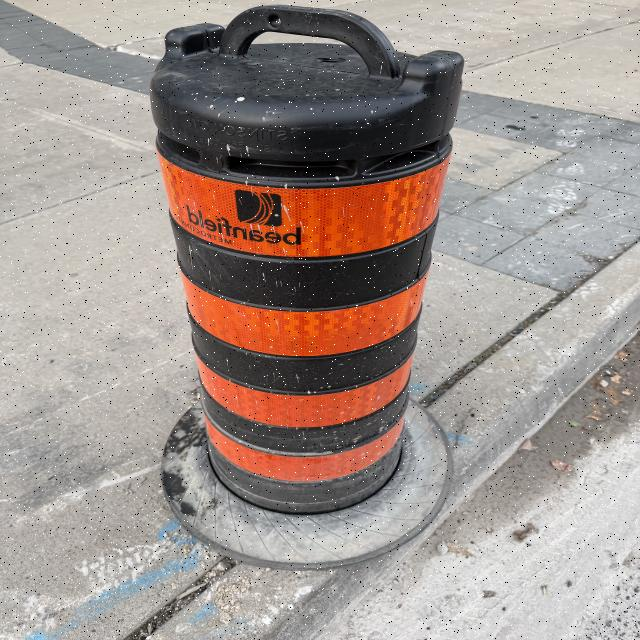Teraffic Barrel: (151, 5, 463, 514)
